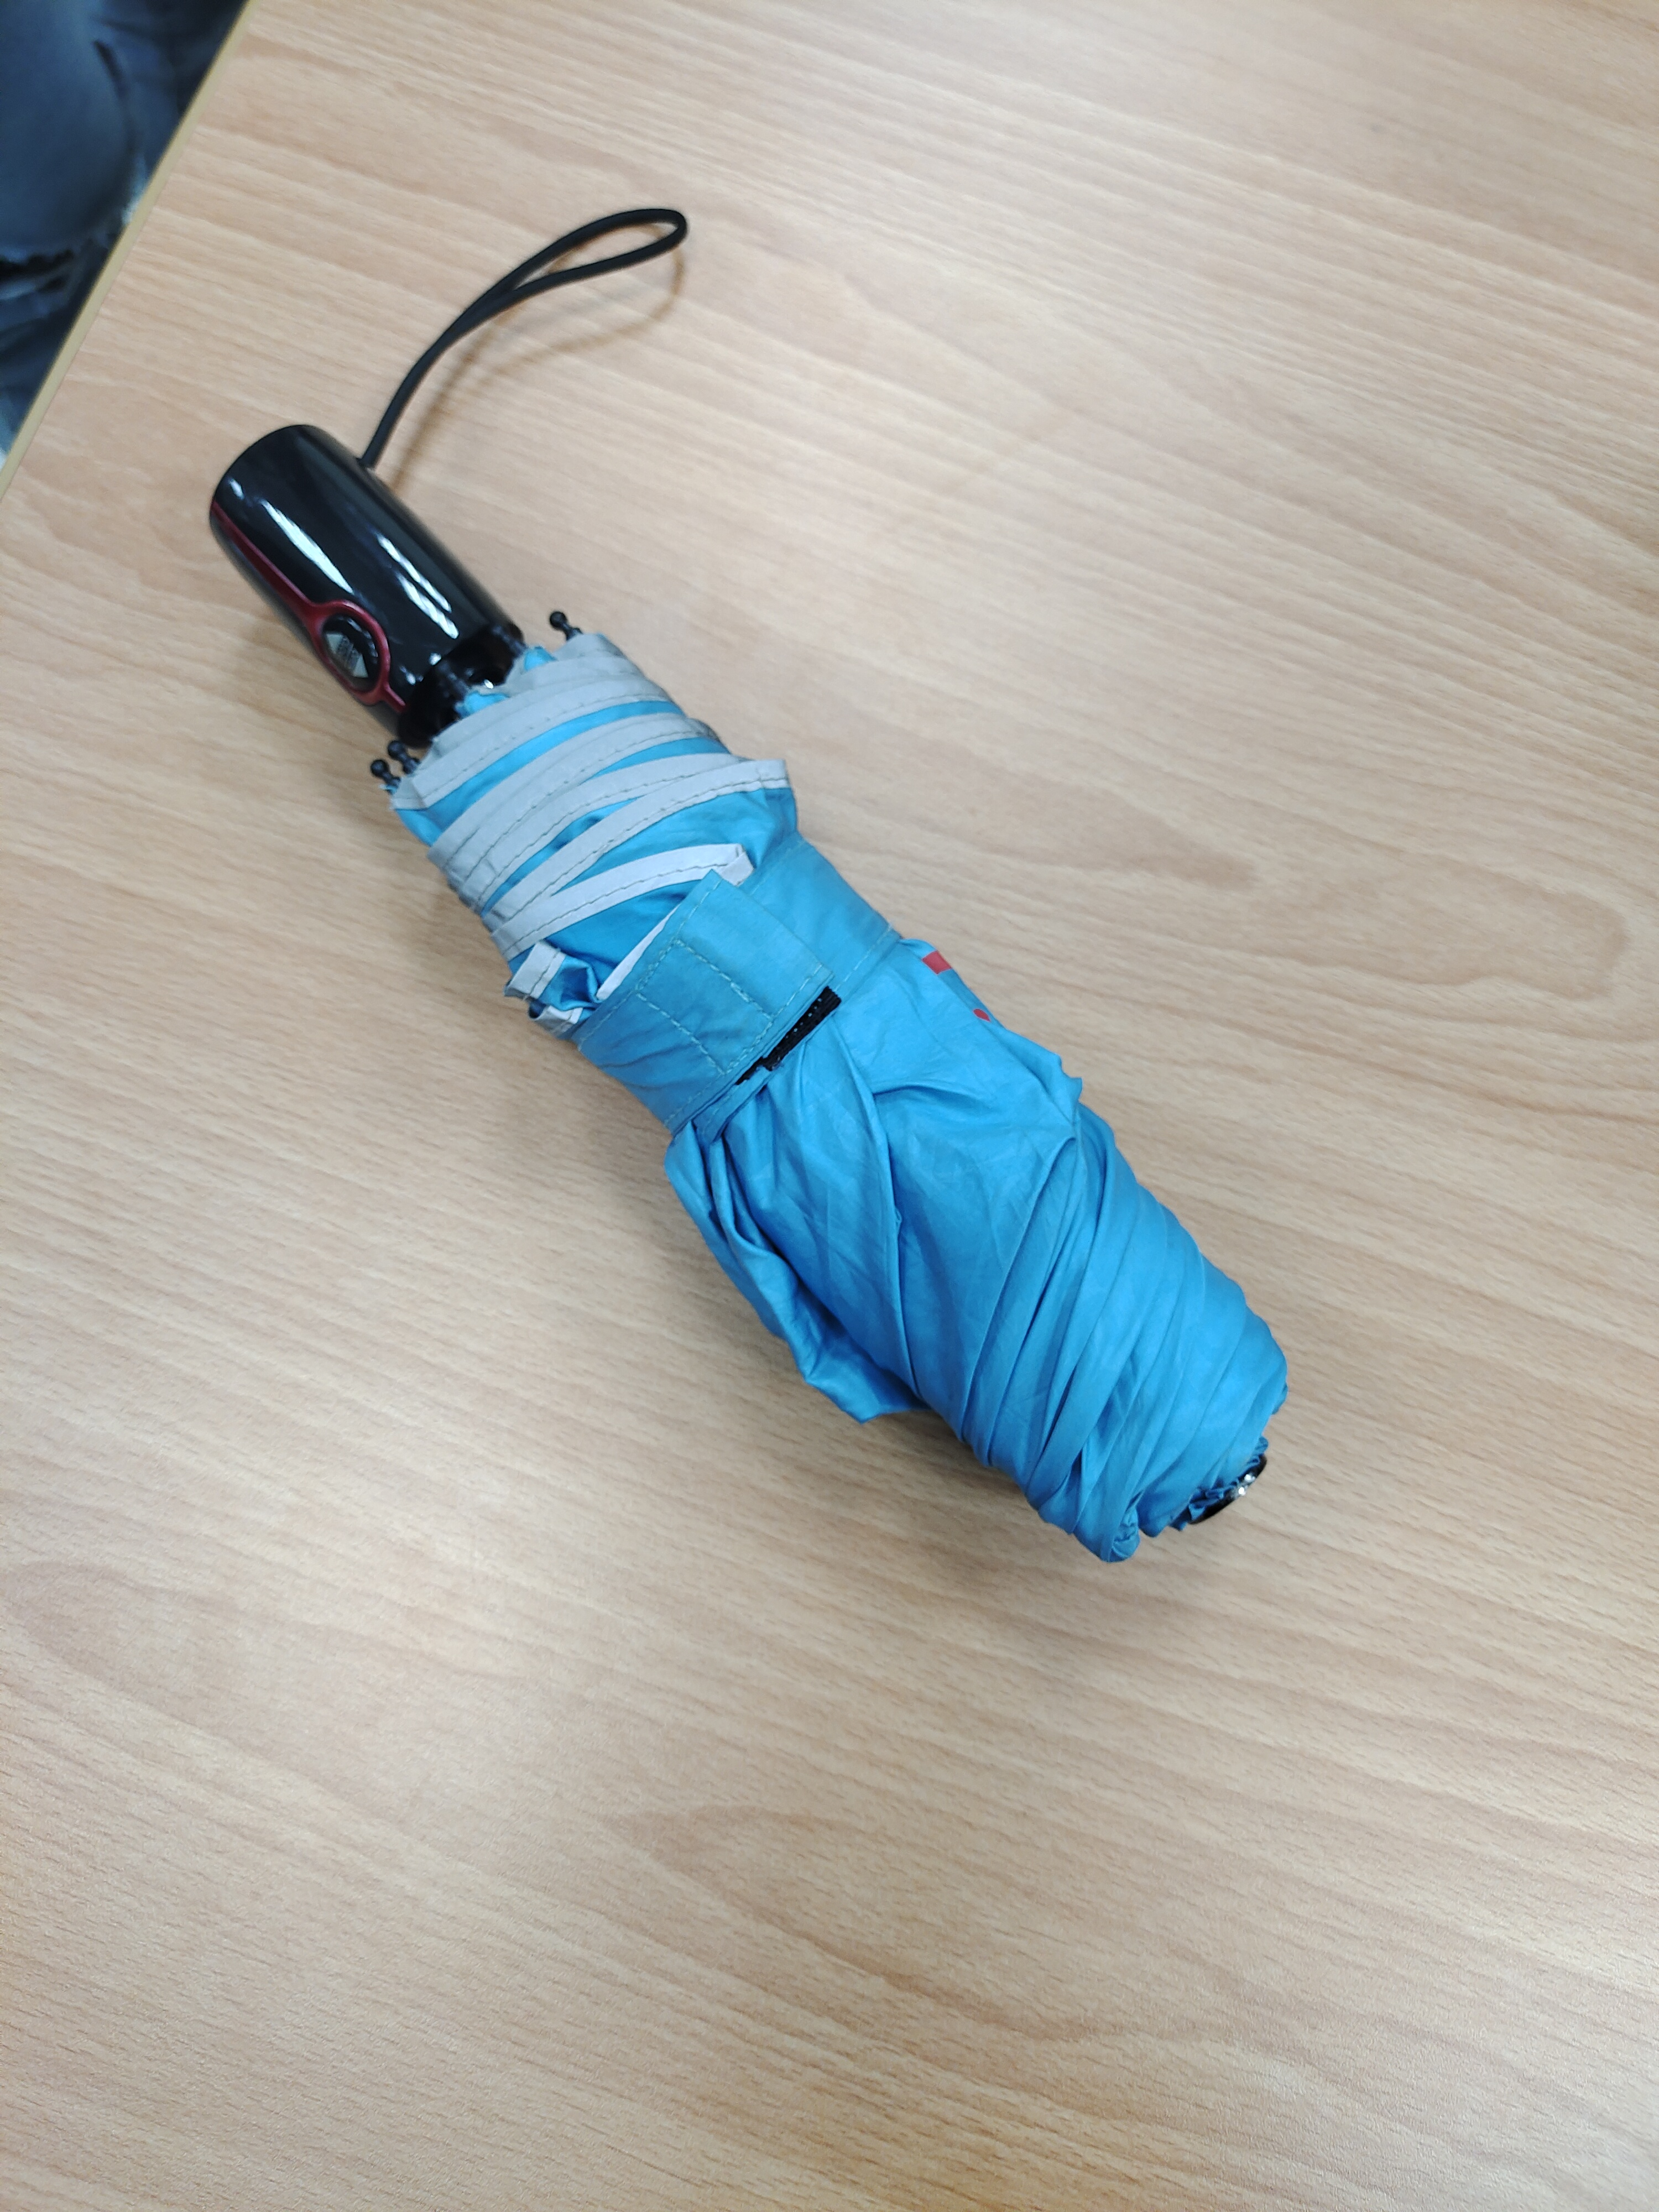Umbrella: (197, 179, 1361, 1569)
